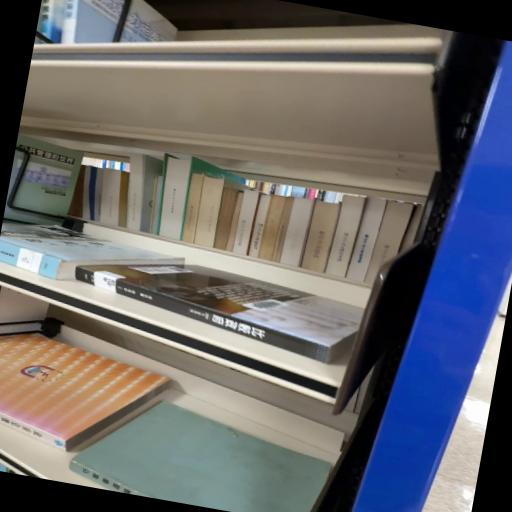flat: (69, 402, 330, 512), (76, 265, 363, 364), (1, 335, 170, 451), (1, 223, 185, 281)
